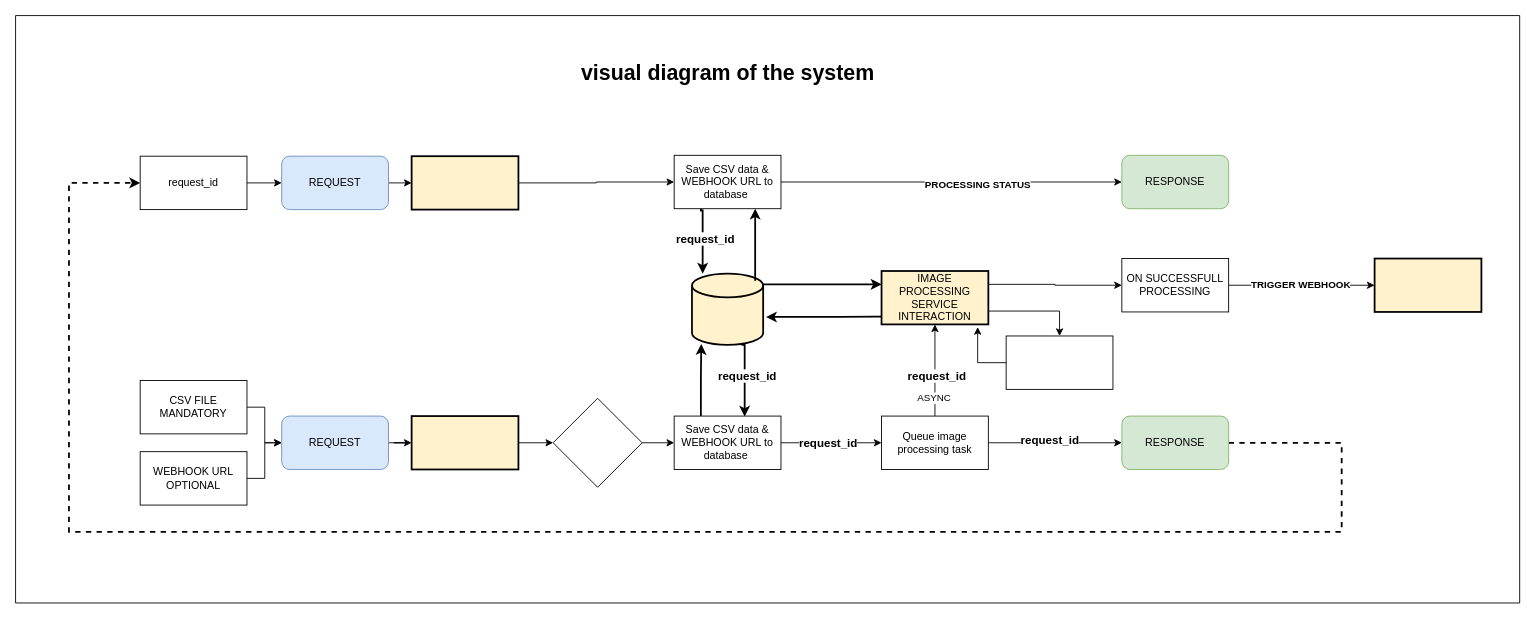
Image size: 1535x619. Some labels were removed from this diagram. Here are the shapes that lost their labels. From the top down, the centre of each, then its label:
the point at 464,182: STATUS API
the point at 1427,284: WEBHOOK HANDLING
the point at 727,308: DATABASE
the point at 1059,362: IMGBB for storing images (AWS S3 free alternative)
the point at 464,442: UPLOAD API
the point at 597,442: VALIDATE CSV
